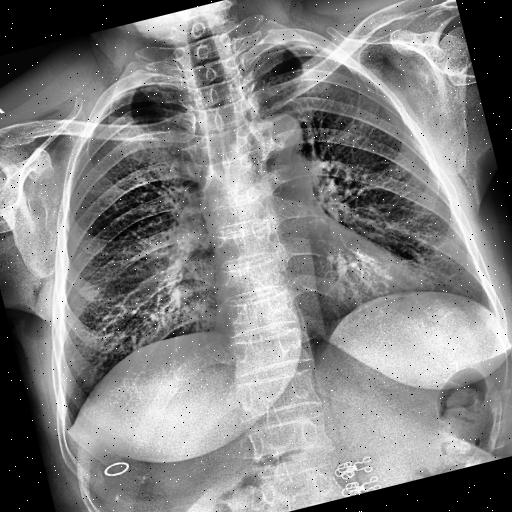0- Aortic enlargement: (240, 108, 314, 186), (231, 108, 310, 170), (240, 109, 306, 161)
11- Pleural thickening: (256, 34, 320, 63)
